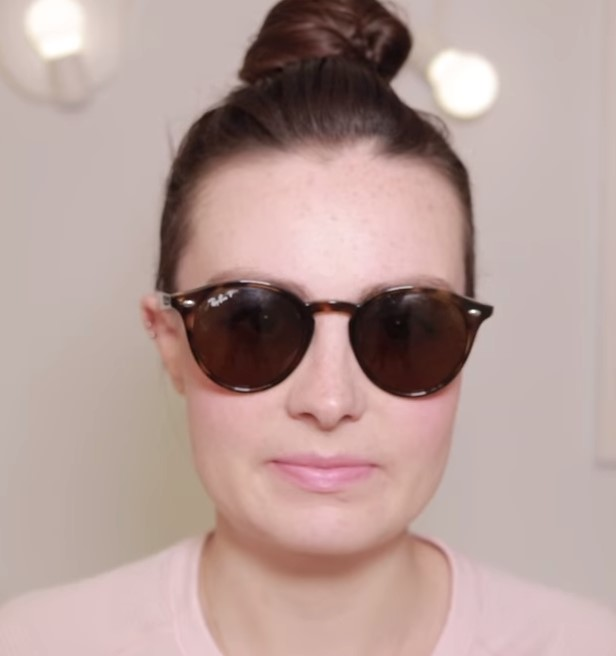face_no_mask: (163, 112, 461, 556)
